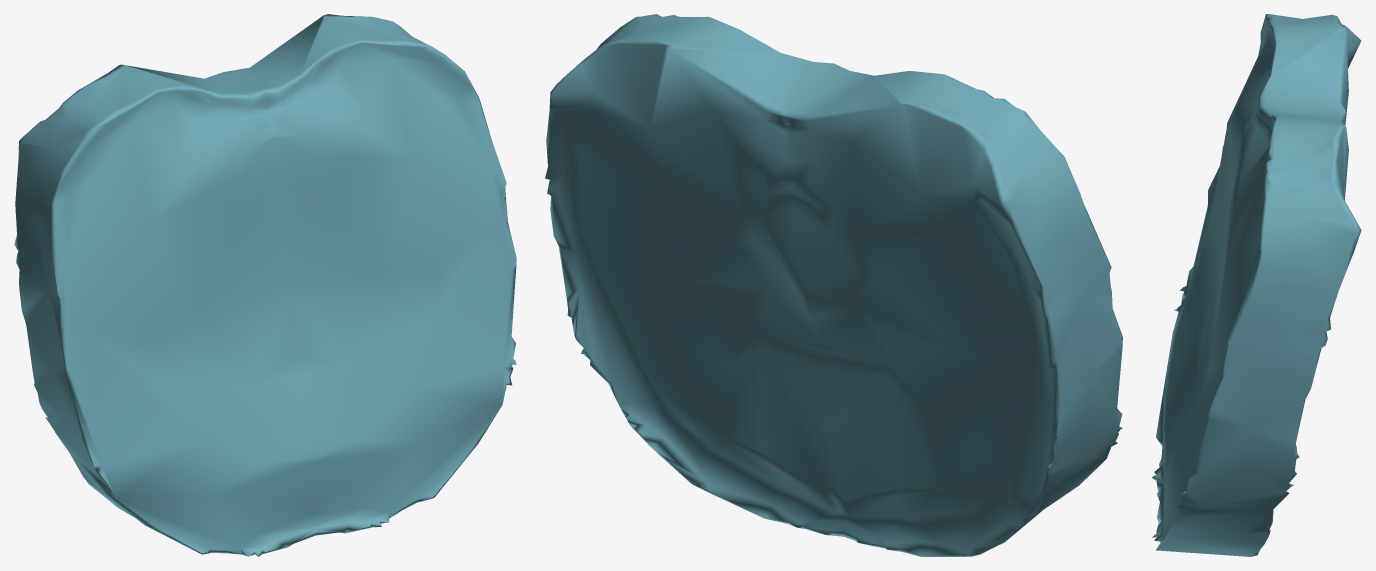
The picture shows the model from 3 angles, left to right: view 1: azimuth 30°, elevation 25°; view 2: azimuth 150°, elevation 25°; view 3: azimuth 270°, elevation 25°; orthographic projection. The views are drawn at different scales.
Parts seen in each view (by area): view 1: 胸9—胸10椎间盘; view 2: 胸9—胸10椎间盘; view 3: 胸9—胸10椎间盘.
Boxes of the visible parts, x1,y1,x2,y2 form: 胸9—胸10椎间盘: [14, 14, 516, 556]; 胸9—胸10椎间盘: [545, 14, 1122, 556]; 胸9—胸10椎间盘: [1151, 14, 1361, 556].
Bounding box in the file's own units: 0.0546 × 0.051 × 0.0221.
